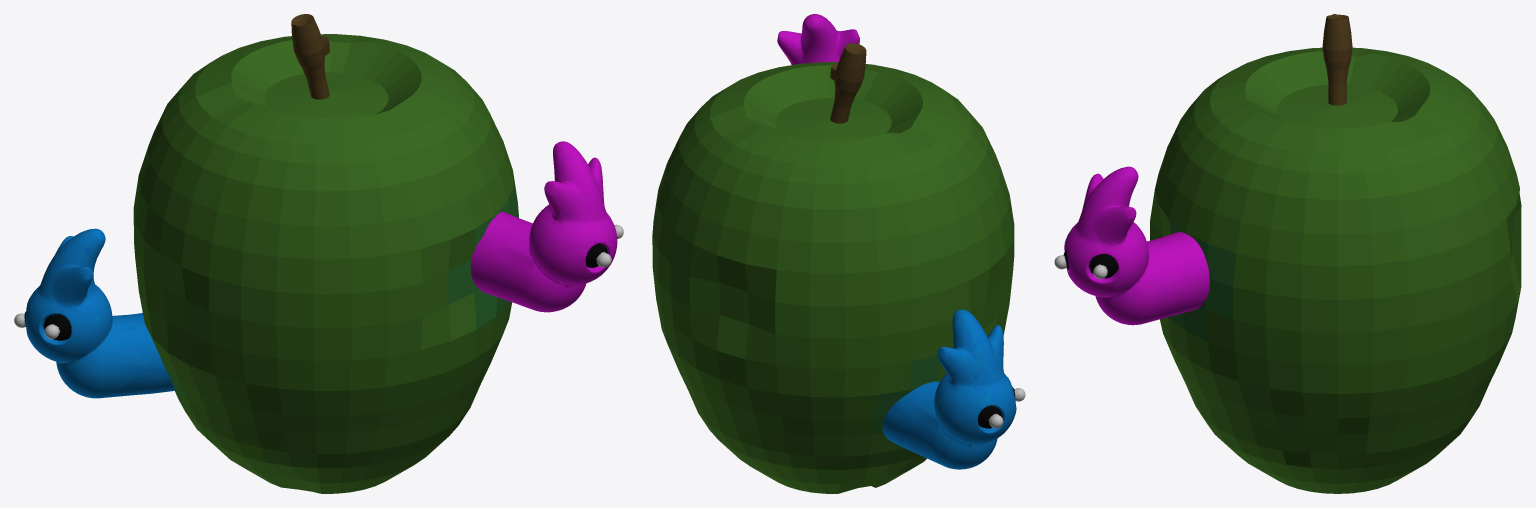
The model's file is osyofv_greenapple.gltf.
The picture shows the model from 3 angles, left to right: view 1: azimuth 30°, elevation 25°; view 2: azimuth 150°, elevation 25°; view 3: azimuth 270°, elevation 25°; orthographic projection. The views are drawn at different scales.
Visible parts, largest first — view 1: Apple, Layer_1, Layer_1.001; view 2: Apple, Layer_1.001, Layer_1; view 3: Apple, Layer_1.
Part boxes in pixels (box(x1,y1,x2,y2)): Apple: box(133, 14, 518, 493); Layer_1: box(470, 141, 623, 312); Layer_1.001: box(14, 228, 174, 398); Apple: box(652, 43, 1014, 493); Layer_1.001: box(882, 309, 1025, 469); Layer_1: box(777, 14, 859, 64); Apple: box(1150, 14, 1521, 493); Layer_1: box(1054, 166, 1209, 325).
Size of the model in its own units: 1.1 by 1.15 by 1.09.
